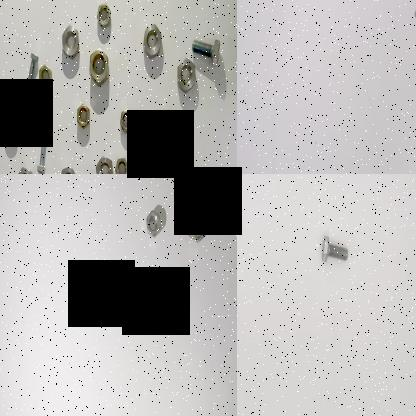Bolts: (315, 232, 351, 272), (190, 34, 223, 70), (22, 51, 42, 104), (35, 122, 49, 174)
NUTS: (182, 196, 210, 246), (141, 19, 164, 60), (174, 57, 197, 96), (88, 48, 110, 88), (60, 22, 82, 60), (140, 208, 162, 240), (96, 1, 113, 31), (119, 105, 134, 139), (38, 62, 53, 94), (5, 116, 21, 146), (94, 155, 116, 174), (74, 104, 90, 130), (158, 110, 174, 136), (113, 155, 131, 174), (57, 165, 79, 174), (14, 167, 34, 174)
